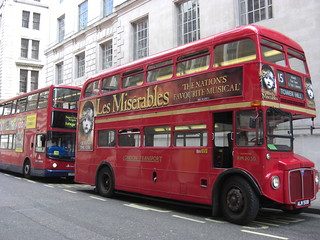bus: (73, 24, 320, 226), (1, 84, 84, 181)
